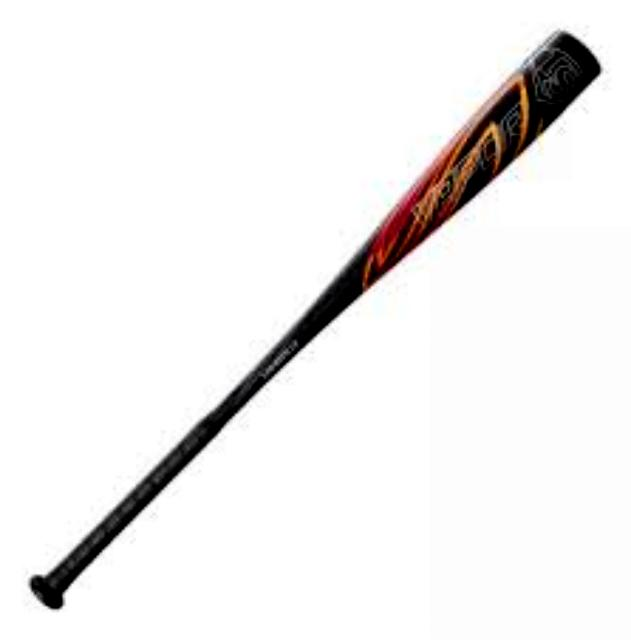baseball bat: (32, 32, 602, 613)
